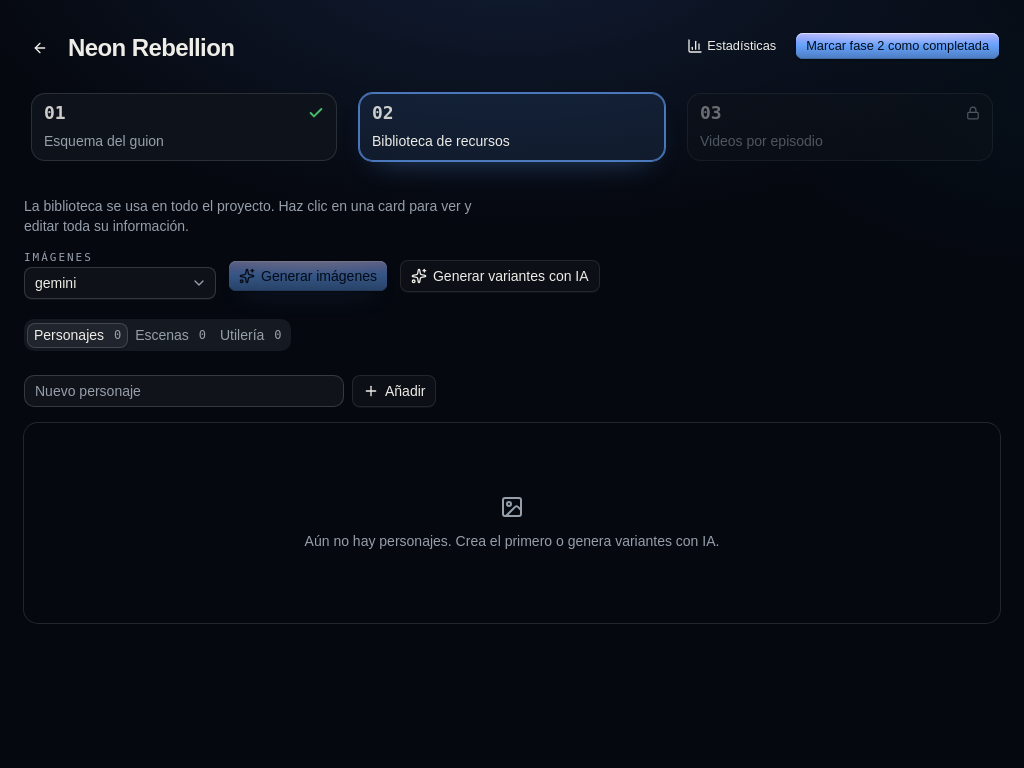
Test case: can navigate back to the script tab after phase 1 is completed
Click the tab "01 Esquema del guion" at (184, 127), box [24, 90, 344, 164]
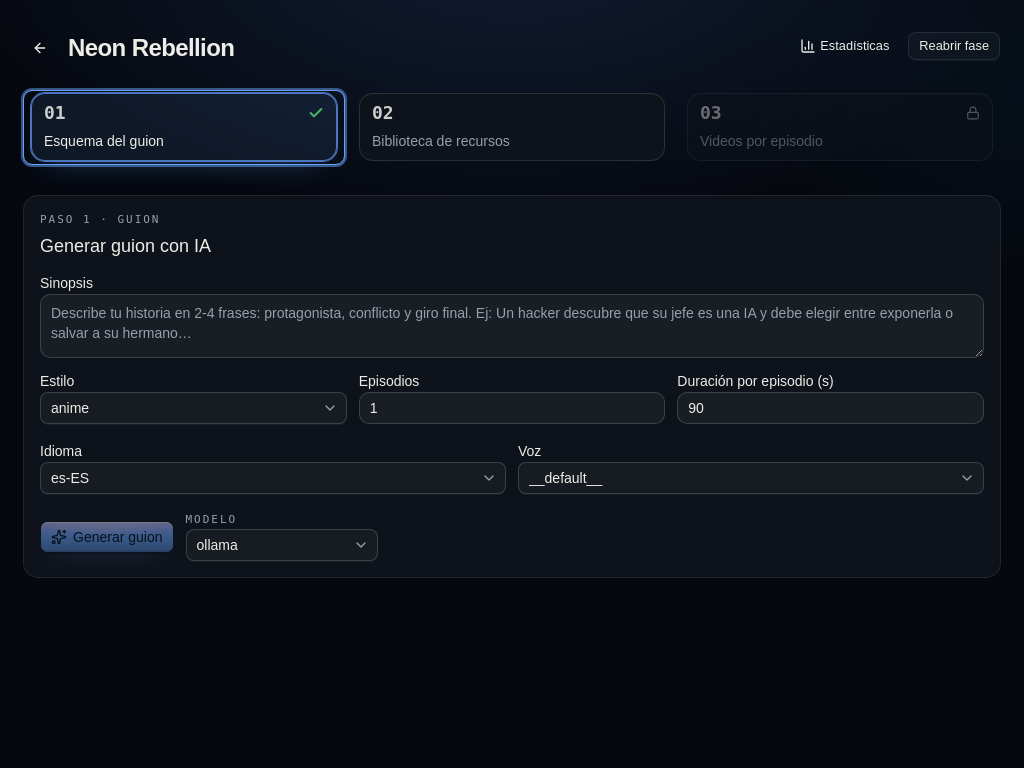
Result: the text "Generar guion con IA" is shown at [40, 236, 211, 256]
